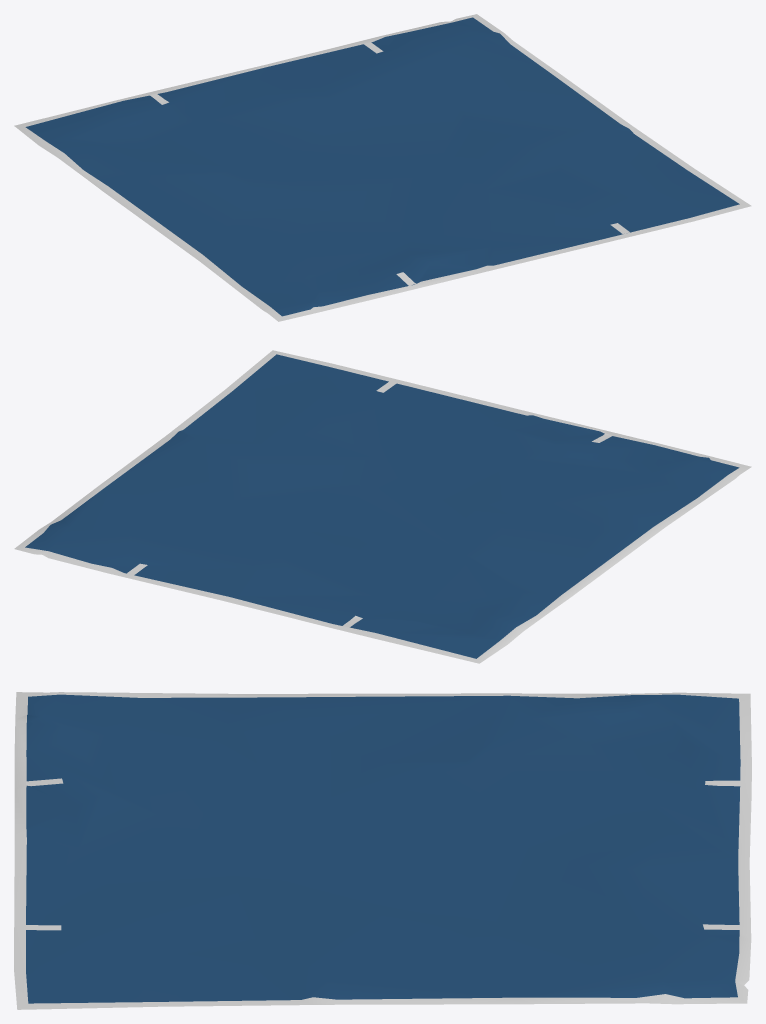
File: SM_M_Government_Office_ClothLarge_01_ATLAS.fbx
The picture shows the model from 3 angles, top to bottom: view 1: azimuth 30°, elevation 25°; view 2: azimuth 150°, elevation 25°; view 3: azimuth 270°, elevation 25°; orthographic projection. The views are drawn at different scales.
Visible parts, largest first — view 1: SM_M_Government_Office_ClothLarge_01_ATLAS; view 2: SM_M_Government_Office_ClothLarge_01_ATLAS; view 3: SM_M_Government_Office_ClothLarge_01_ATLAS.
Part boxes in pixels (x1,y1,x2,y2): SM_M_Government_Office_ClothLarge_01_ATLAS: [14, 14, 751, 321]; SM_M_Government_Office_ClothLarge_01_ATLAS: [14, 350, 751, 663]; SM_M_Government_Office_ClothLarge_01_ATLAS: [14, 692, 751, 1009].
Size of the model in its own units: 306 by 300 by 3.27.
